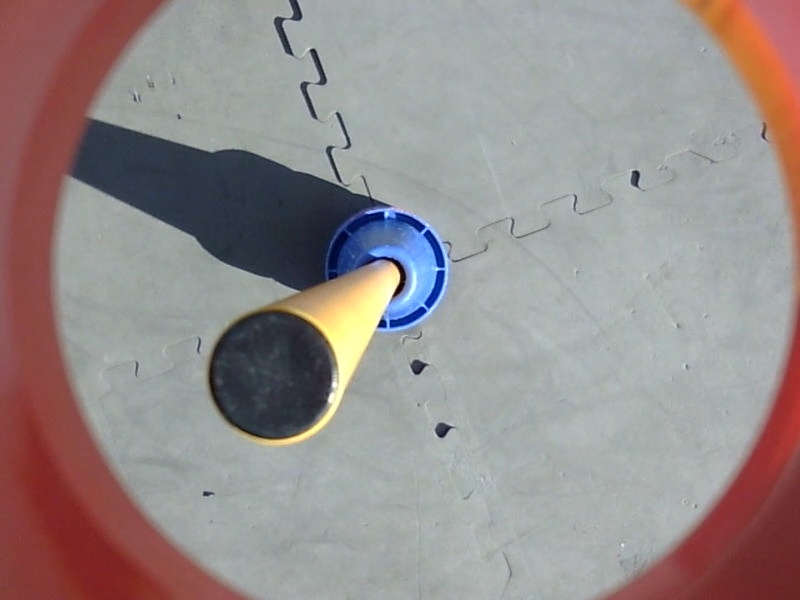tip: (203, 303, 348, 452)
